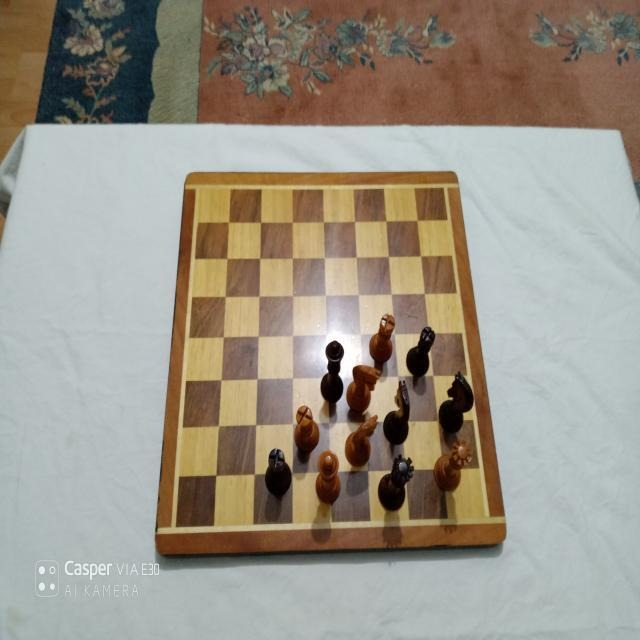black-king: (321, 340, 343, 403)
black-knight: (438, 370, 474, 433), (382, 379, 409, 444)
black-rook: (406, 326, 436, 378), (265, 447, 291, 497)
white-king: (314, 451, 341, 503)
white-knight: (345, 414, 379, 466), (346, 363, 381, 411)
white-queen: (433, 437, 473, 490)
white-rook: (368, 313, 395, 363), (293, 404, 320, 452)
